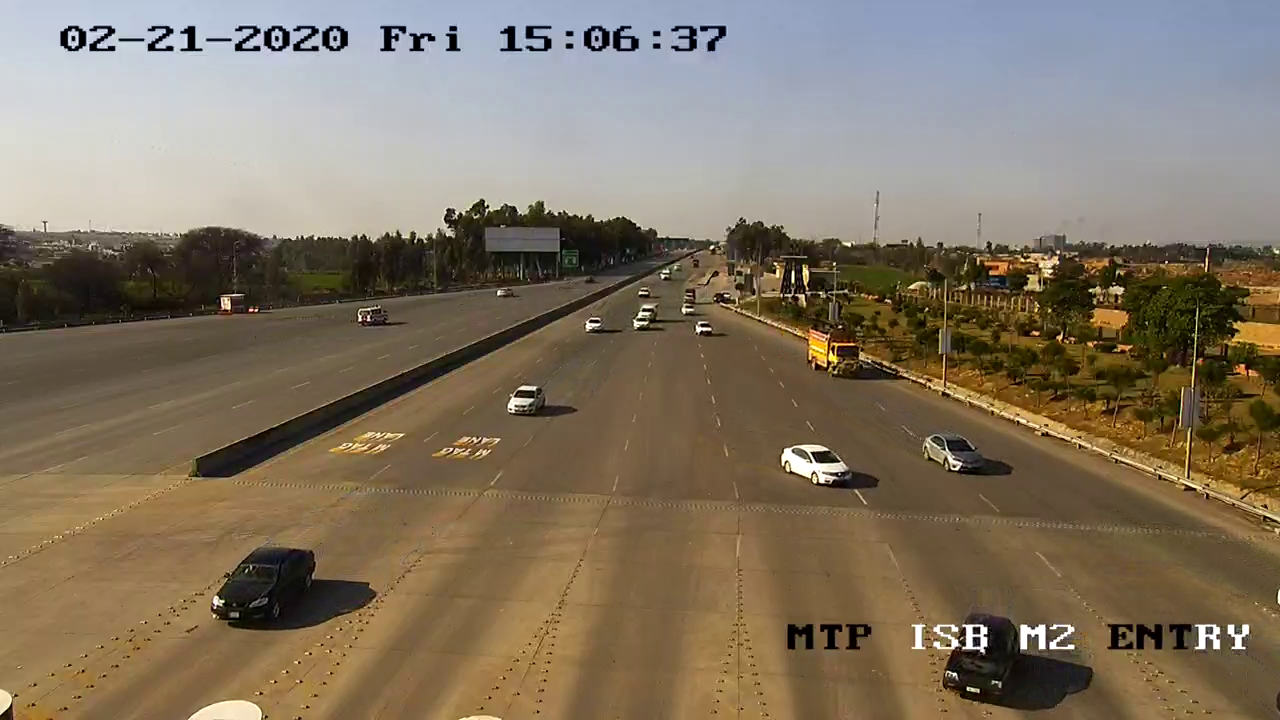f1: (203, 524, 328, 632), (774, 437, 858, 494), (911, 428, 995, 481), (497, 375, 555, 424)
f5: (795, 321, 871, 389)
